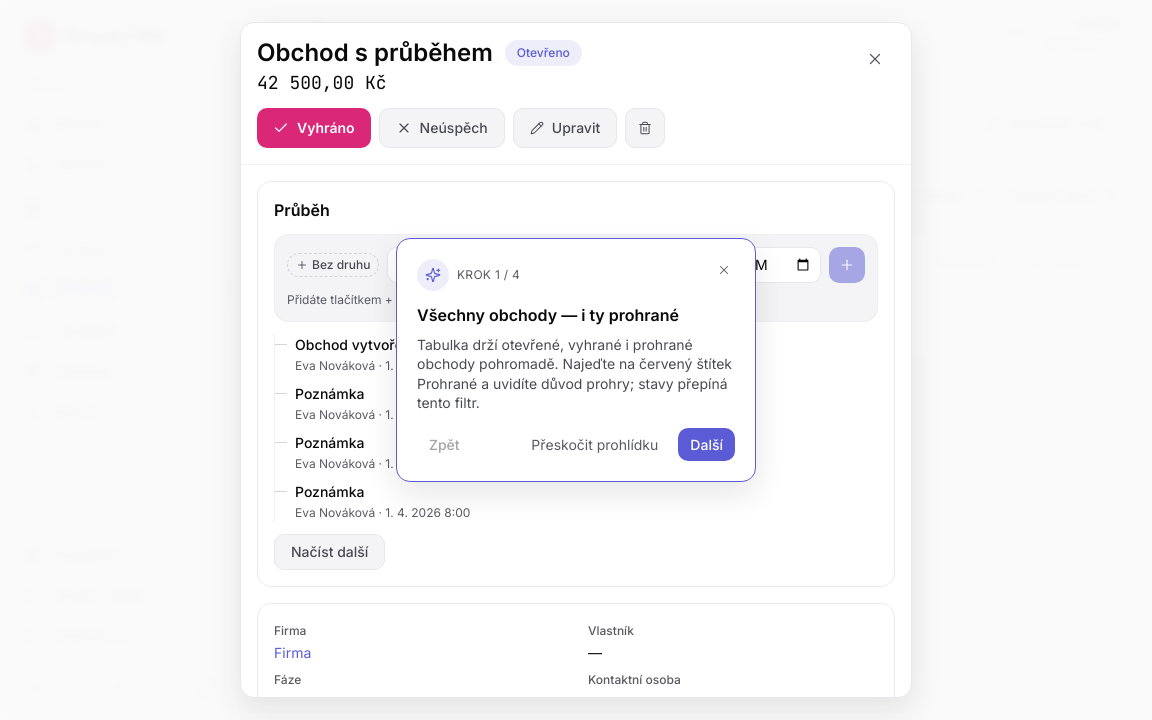
Test: Deals list + detail › shows the deal timeline first and pages it with Načíst další
expect the heading "Průběh" is shown: met, box [274,200,330,220]
expect the text "Poznámka" is shown 3 times: met, box [295,385,364,402]; [295,434,364,451]; [295,483,364,500]
Click the button with test id "deals-detail-timeline-load-more" at (330, 552), box [274,534,385,570]
(page scrolled)
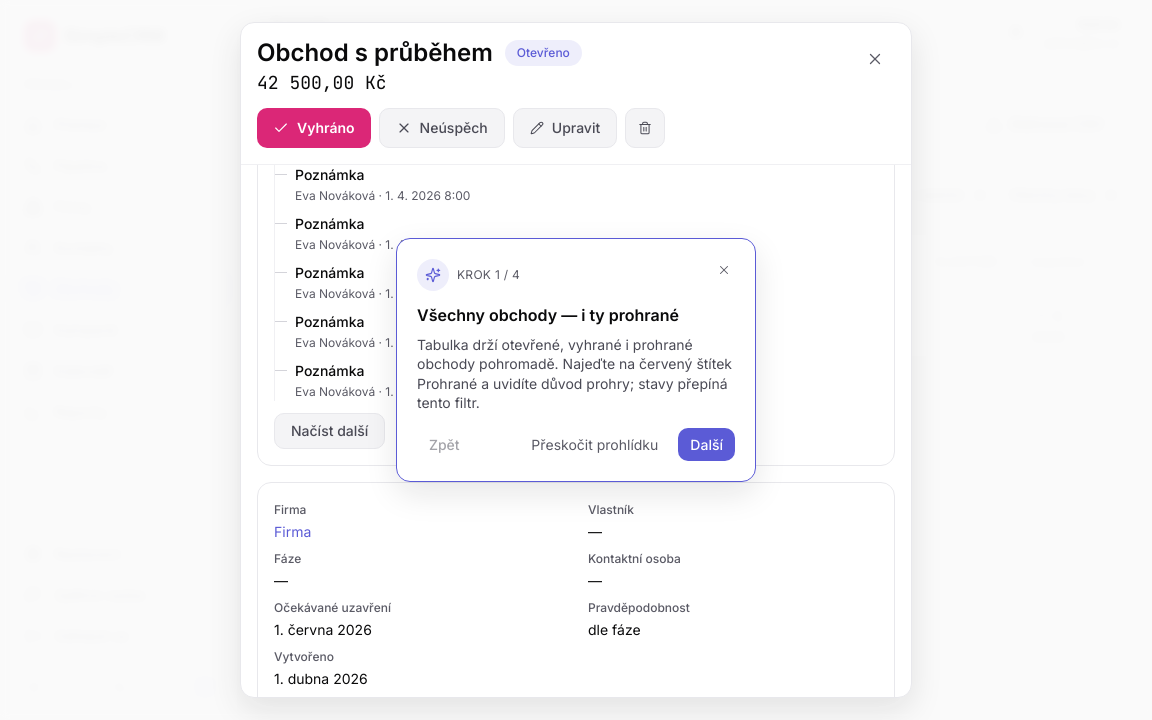
// 19 of 21 still leaves two — page once more to drain them.
Click the button with test id "deals-detail-timeline-load-more" at (330, 431), box [274,413,385,449]
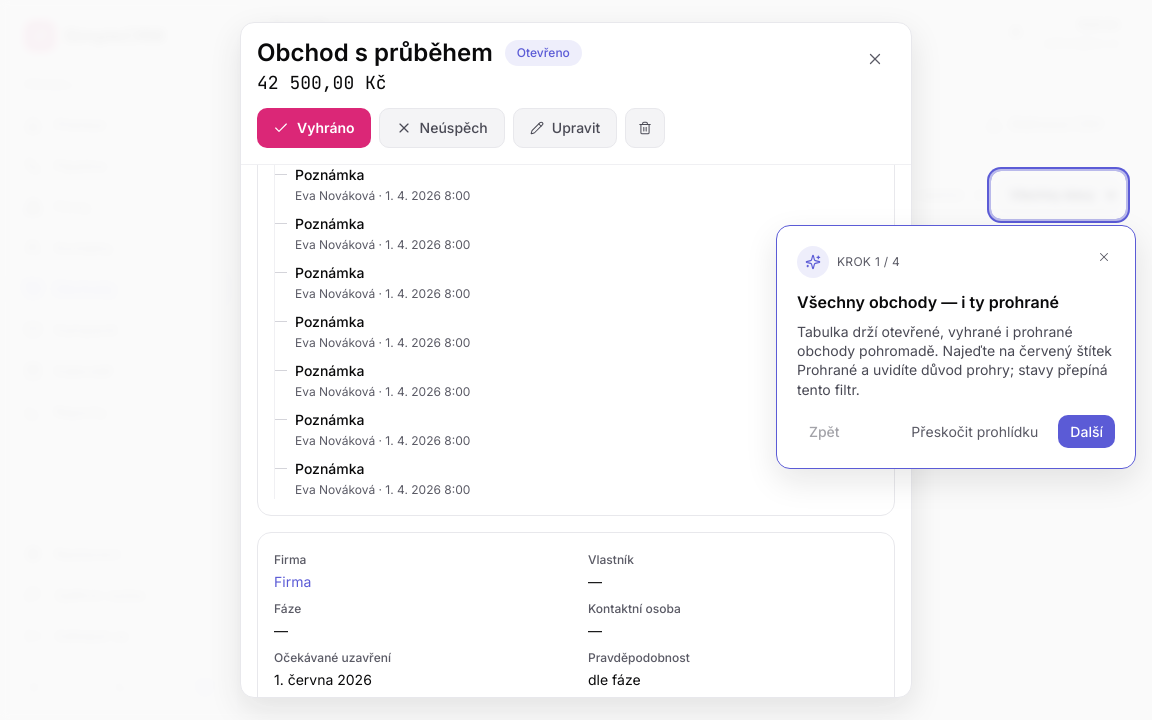
expect the button with test id "deals-detail-timeline-load-more" is gone: met
